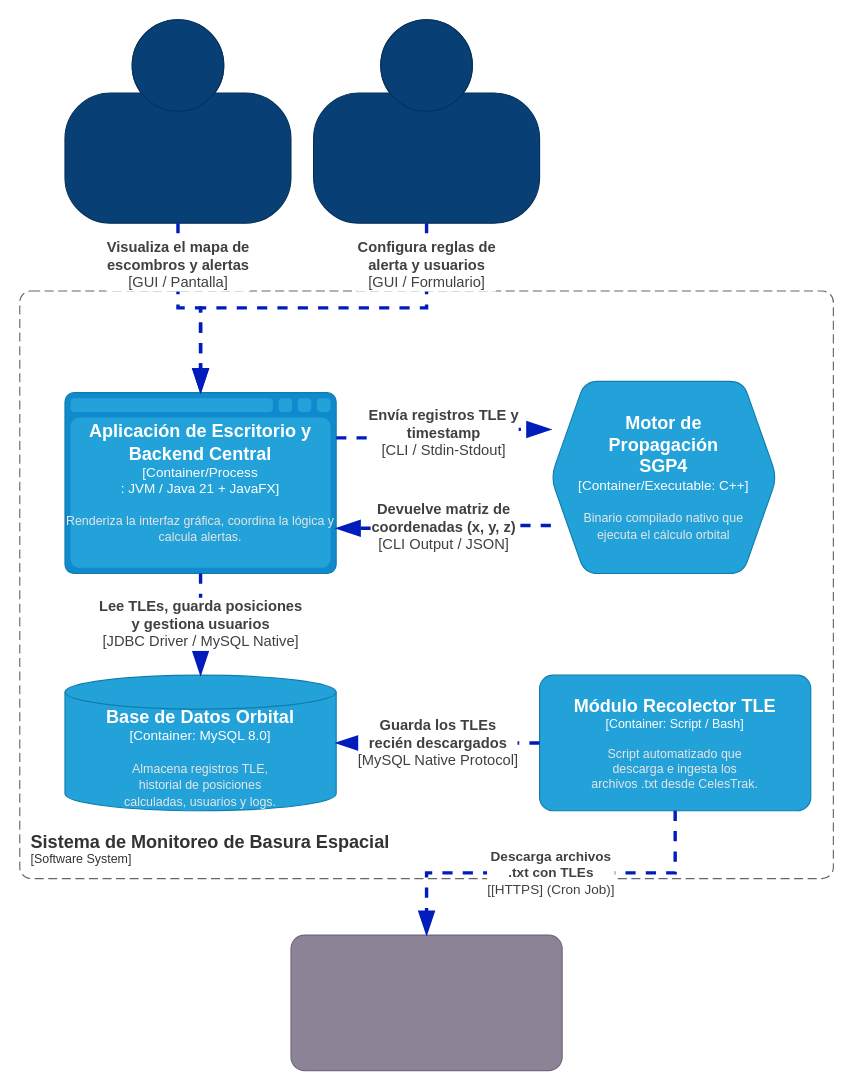
Image size: 853x1090. Some labels were removed from this diagram. Here are the shapes that lost their labels. From the top down, the centre of each, then its label:
At point (177, 121): "Analista de Misión Espacial [Person] Description of person.".
At point (426, 121): "Administrador de Sistema [Person] Description of person.".
At point (426, 1002): "CelesTrak API [Software System] Repositorio publico global de elementos orbitas".
